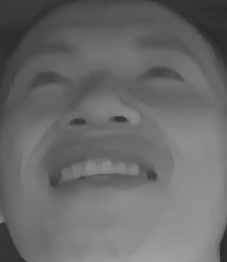eye: (137, 60, 188, 89), (26, 65, 74, 91)
mouth: (48, 138, 161, 202)
